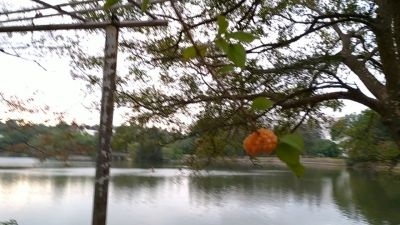eggs: (241, 127, 280, 158)
